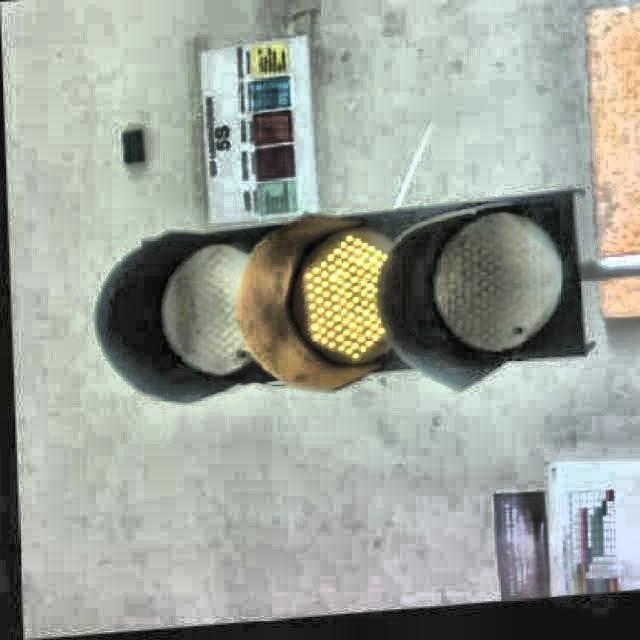yellow: (114, 206, 603, 389)
